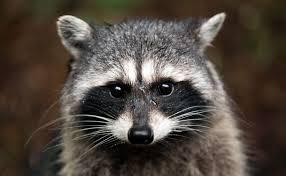raccoon: (14, 0, 278, 176)
